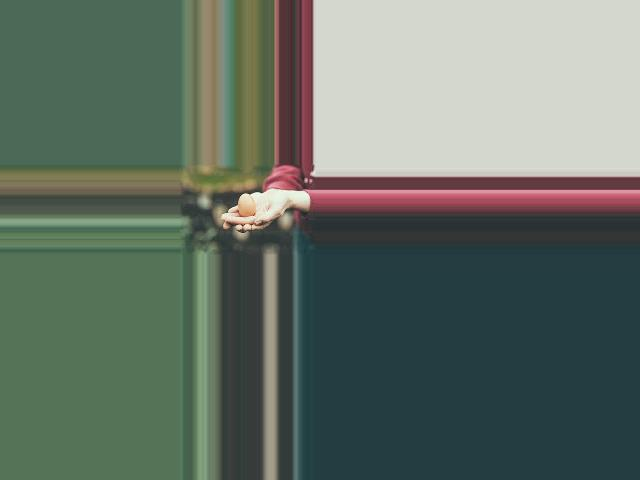egg: (238, 193, 255, 216)
